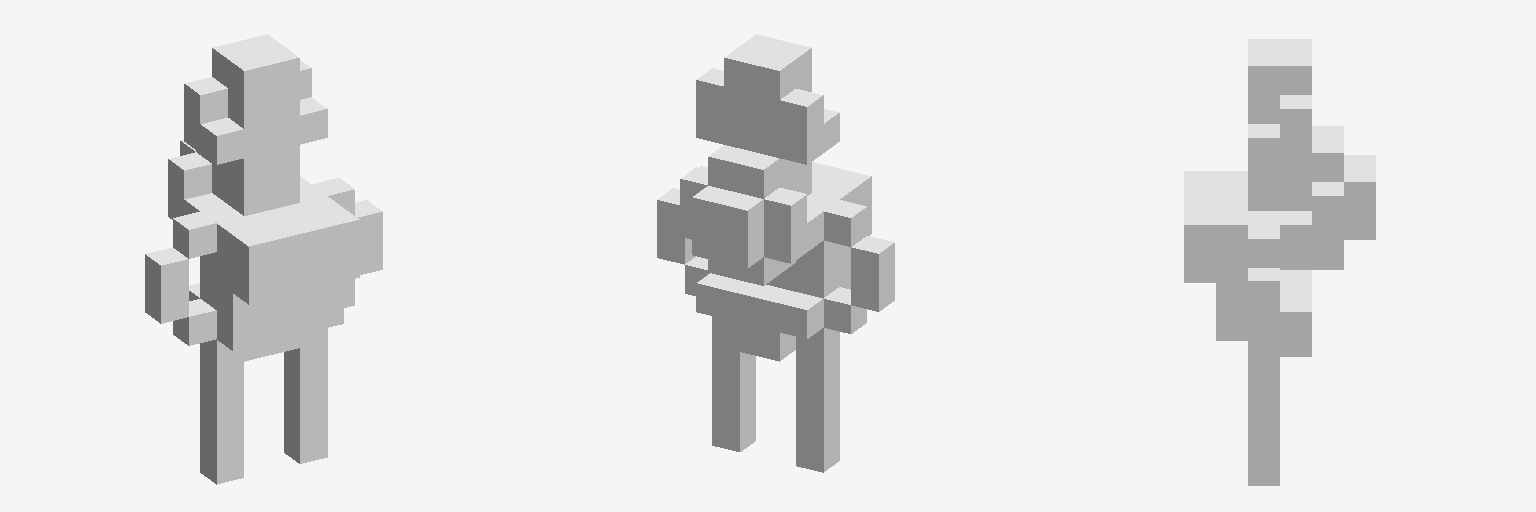
Rendered from scummBarLady01.obj.
The picture shows the model from 3 angles: view 1: azimuth 30°, elevation 25°; view 2: azimuth 150°, elevation 25°; view 3: azimuth 270°, elevation 25°; orthographic projection.
Bounding box in the file's own units: 8 × 14 × 6.